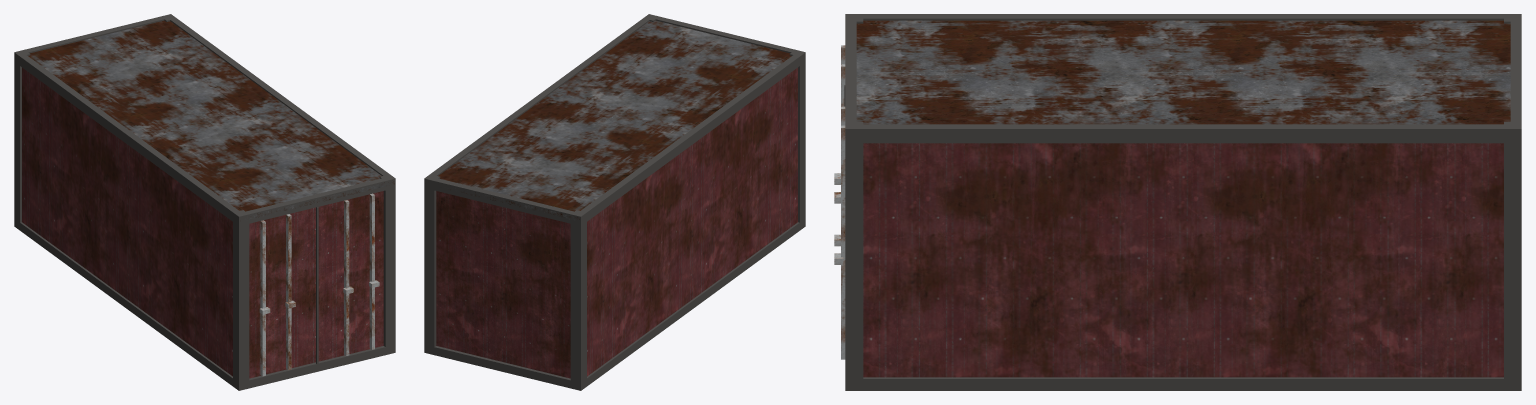
Rendered from container_20_vermelho.glb.
The picture shows the model from 3 angles, left to right: view 1: azimuth 30°, elevation 25°; view 2: azimuth 150°, elevation 25°; view 3: azimuth 270°, elevation 25°; orthographic projection. The views are drawn at different scales.
Parts seen in each view (by area): view 1: cont_vermelho; view 2: cont_vermelho; view 3: cont_vermelho.
Boxes of the visible parts, x1,y1,x2,y2 form: cont_vermelho: (14,14,395,390); cont_vermelho: (424,14,805,390); cont_vermelho: (834,14,1521,390).
Bounding box in the file's own units: 2.44 × 2.59 × 6.16.
4 materials, 3 textured.
